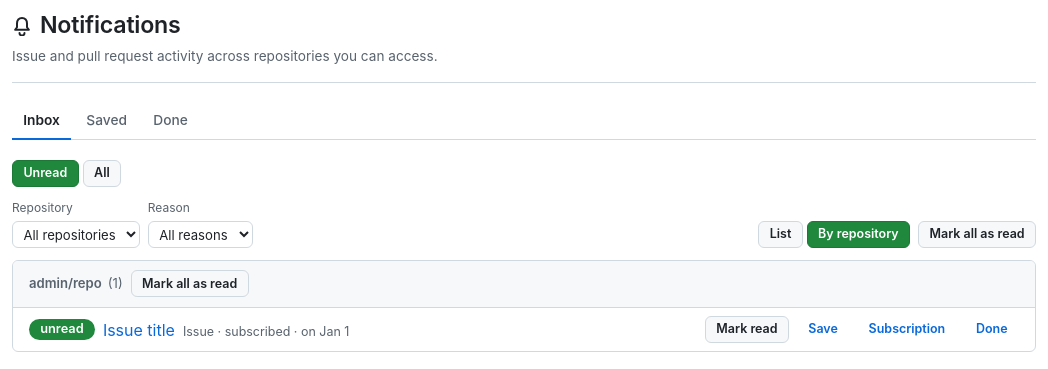
Test case: NotificationsPage › shows the Done view read-only (the server has no un-done endpoint)
Expected: the link "Issue title" is shown, [103,316,175,342]
Click the tab "Done": point(171, 122) [142,103,199,140]
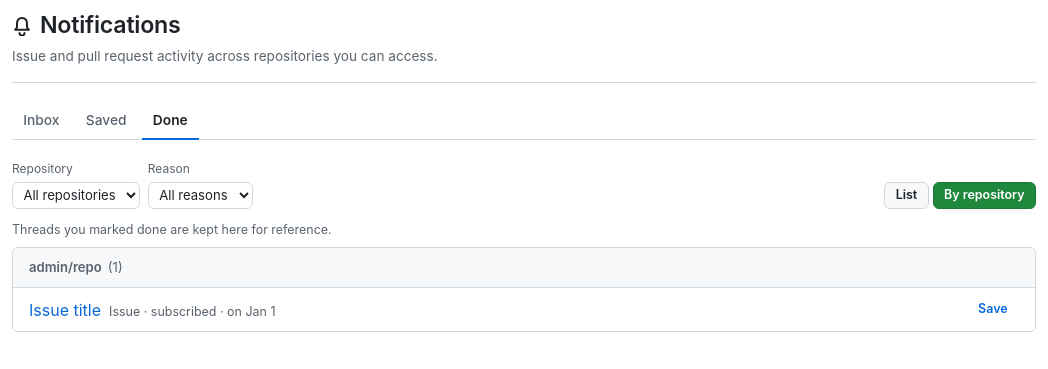
Now the text "Threads you marked done are kept here for reference." is shown, box [12,222,332,237]
Now the button "Mark read" is gone
Now the button "Subscription" is gone
